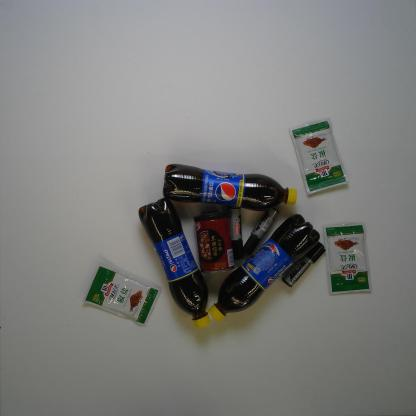Canned Food: (193, 211, 236, 274)
Drink: (207, 212, 321, 324), (138, 196, 212, 330), (162, 162, 298, 212)
Seasoner: (83, 263, 162, 328), (288, 116, 351, 197), (322, 220, 373, 296)
Stationery: (280, 240, 327, 288), (243, 207, 280, 256), (227, 206, 244, 262)
